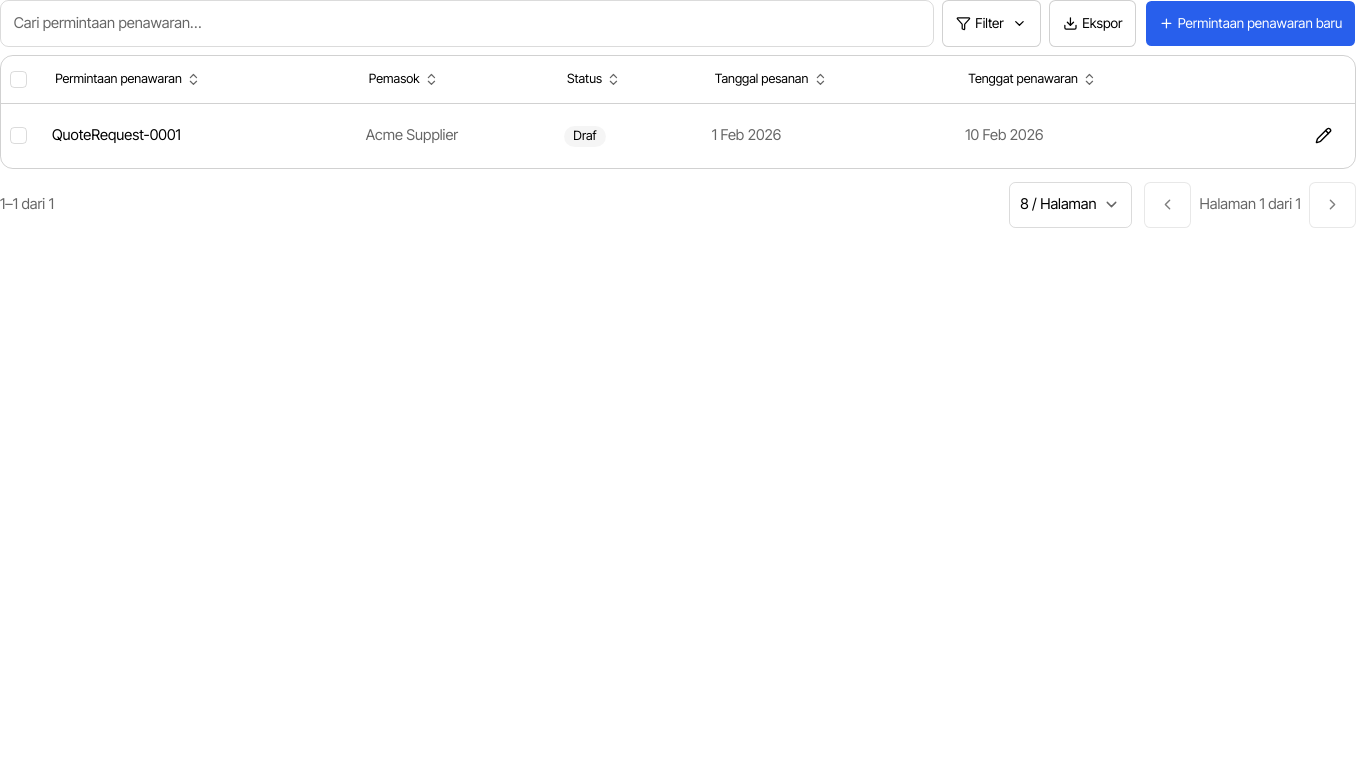
Test: SupplierQuoteRequestsSection › opens the create dialog from the add button
expect the link "QuoteRequest-0001" is shown: met, box [52,126,181,144]
Click the button "Permintaan penawaran baru".
click(1250, 23)  # box [1145,0,1356,47]
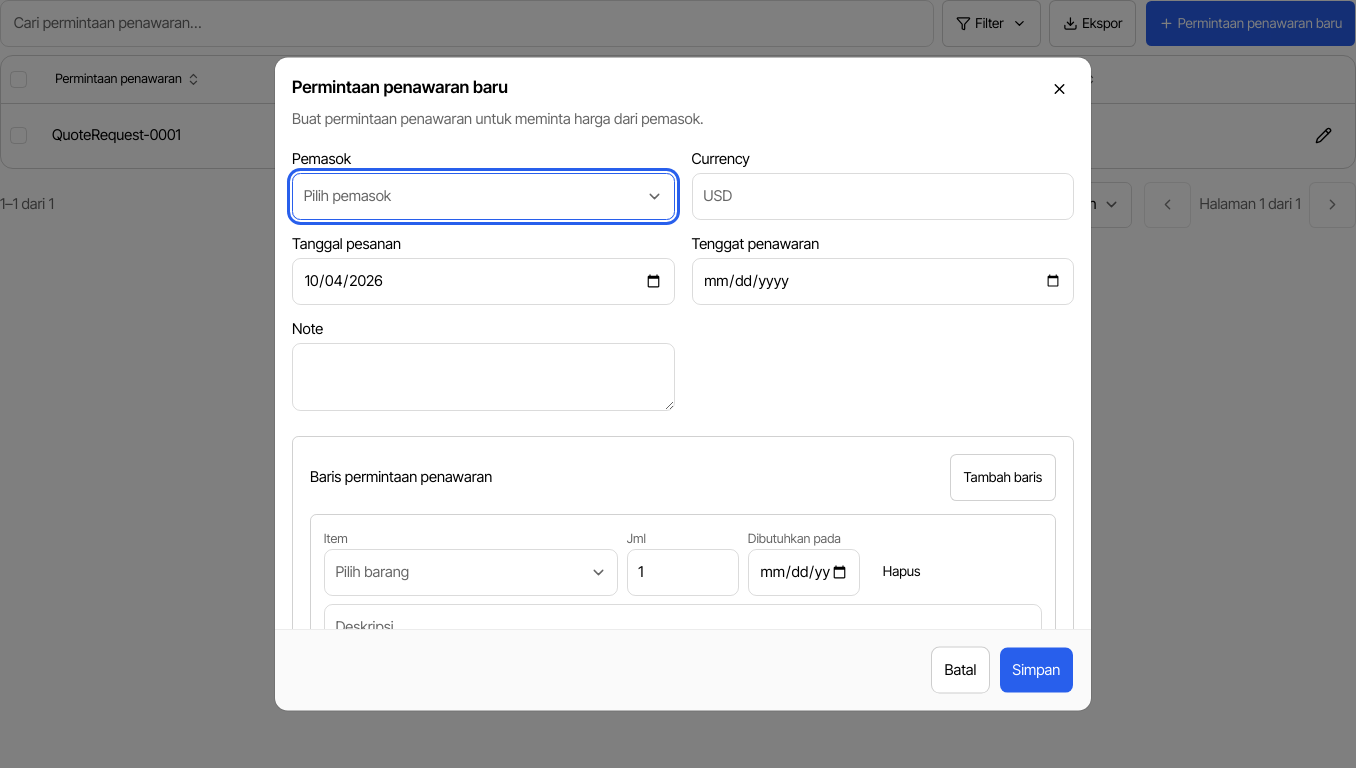
expect the dialog is shown: met, box [275,58,1091,710]
expect the heading "Permintaan penawaran baru" is shown: met, box [292,75,508,100]
